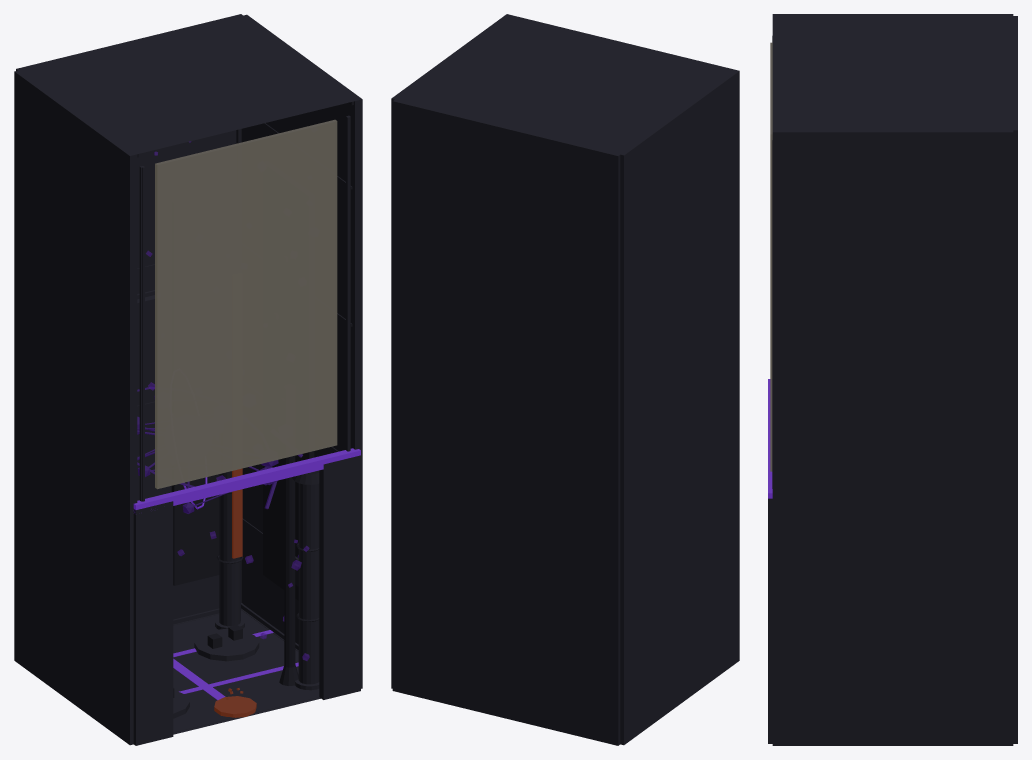
Rendered from knowledgebase-int.glb.
3 views of the same model, side by side, from view 1: azimuth 30°, elevation 25°; view 2: azimuth 150°, elevation 25°; view 3: azimuth 270°, elevation 25° (orthographic). The views are drawn at different scales.
Parts seen in each view (by area): view 1: room_wall_left, front_wall_glass, room_ceiling, room_wall_right, front_wall_right_pillar, front_wall_left_pillar, room_floor, room_wall_back, stone_column_01, book_wall_back_right, front_wall_lintel, book_wall_right (+7 smaller); view 2: room_wall_back, room_wall_left, room_ceiling, room_wall_right; view 3: room_wall_right, room_ceiling, room_wall_back, front_wall_glass, front_wall_right_pillar, room_wall_left.
Part boxes in pixels (<box>): room_wall_left: <box>14,70,137,745</box>; front_wall_glass: <box>155,119,337,489</box>; room_ceiling: <box>24,18,354,154</box>; room_wall_right: <box>241,14,362,688</box>; front_wall_right_pillar: <box>319,455,360,699</box>; front_wall_left_pillar: <box>133,501,173,745</box>; room_floor: <box>173,610,320,734</box>; room_wall_back: <box>16,14,244,619</box>; stone_column_01: <box>298,483,319,684</box>; book_wall_back_right: <box>171,474,241,585</box>; front_wall_lintel: <box>133,448,360,512</box>; book_wall_right: <box>263,451,314,600</box>; room_wall_back: <box>392,98,621,745</box>; room_wall_left: <box>617,69,739,745</box>; room_ceiling: <box>397,16,731,153</box>; room_wall_right: <box>391,14,513,688</box>; room_wall_right: <box>772,128,1013,745</box>; room_ceiling: <box>772,17,1013,130</box>; room_wall_back: <box>1009,16,1017,743</box>; front_wall_glass: <box>770,42,772,471</box>; front_wall_right_pillar: <box>768,498,772,743</box>; room_wall_left: <box>772,14,1013,17</box>.
Size of the model in its own units: 3.72 by 9 by 3.32.
